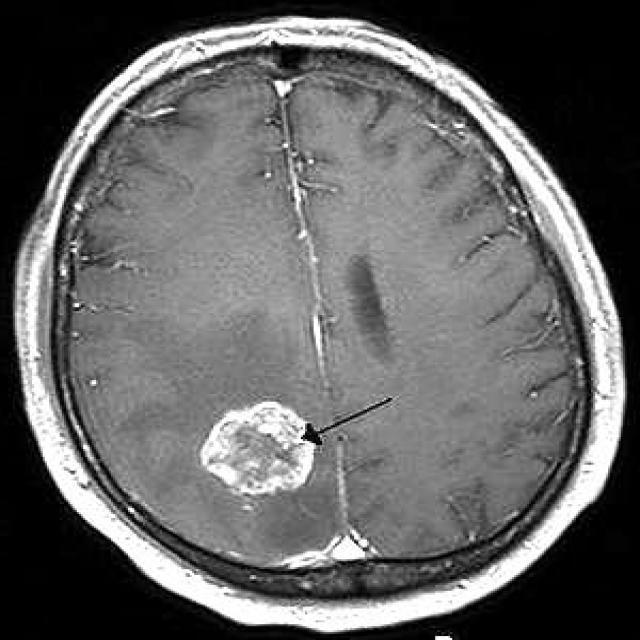tumor: (198, 402, 326, 498)
